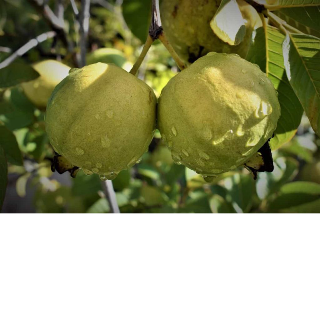oi: (153, 47, 284, 173), (41, 58, 165, 178)
